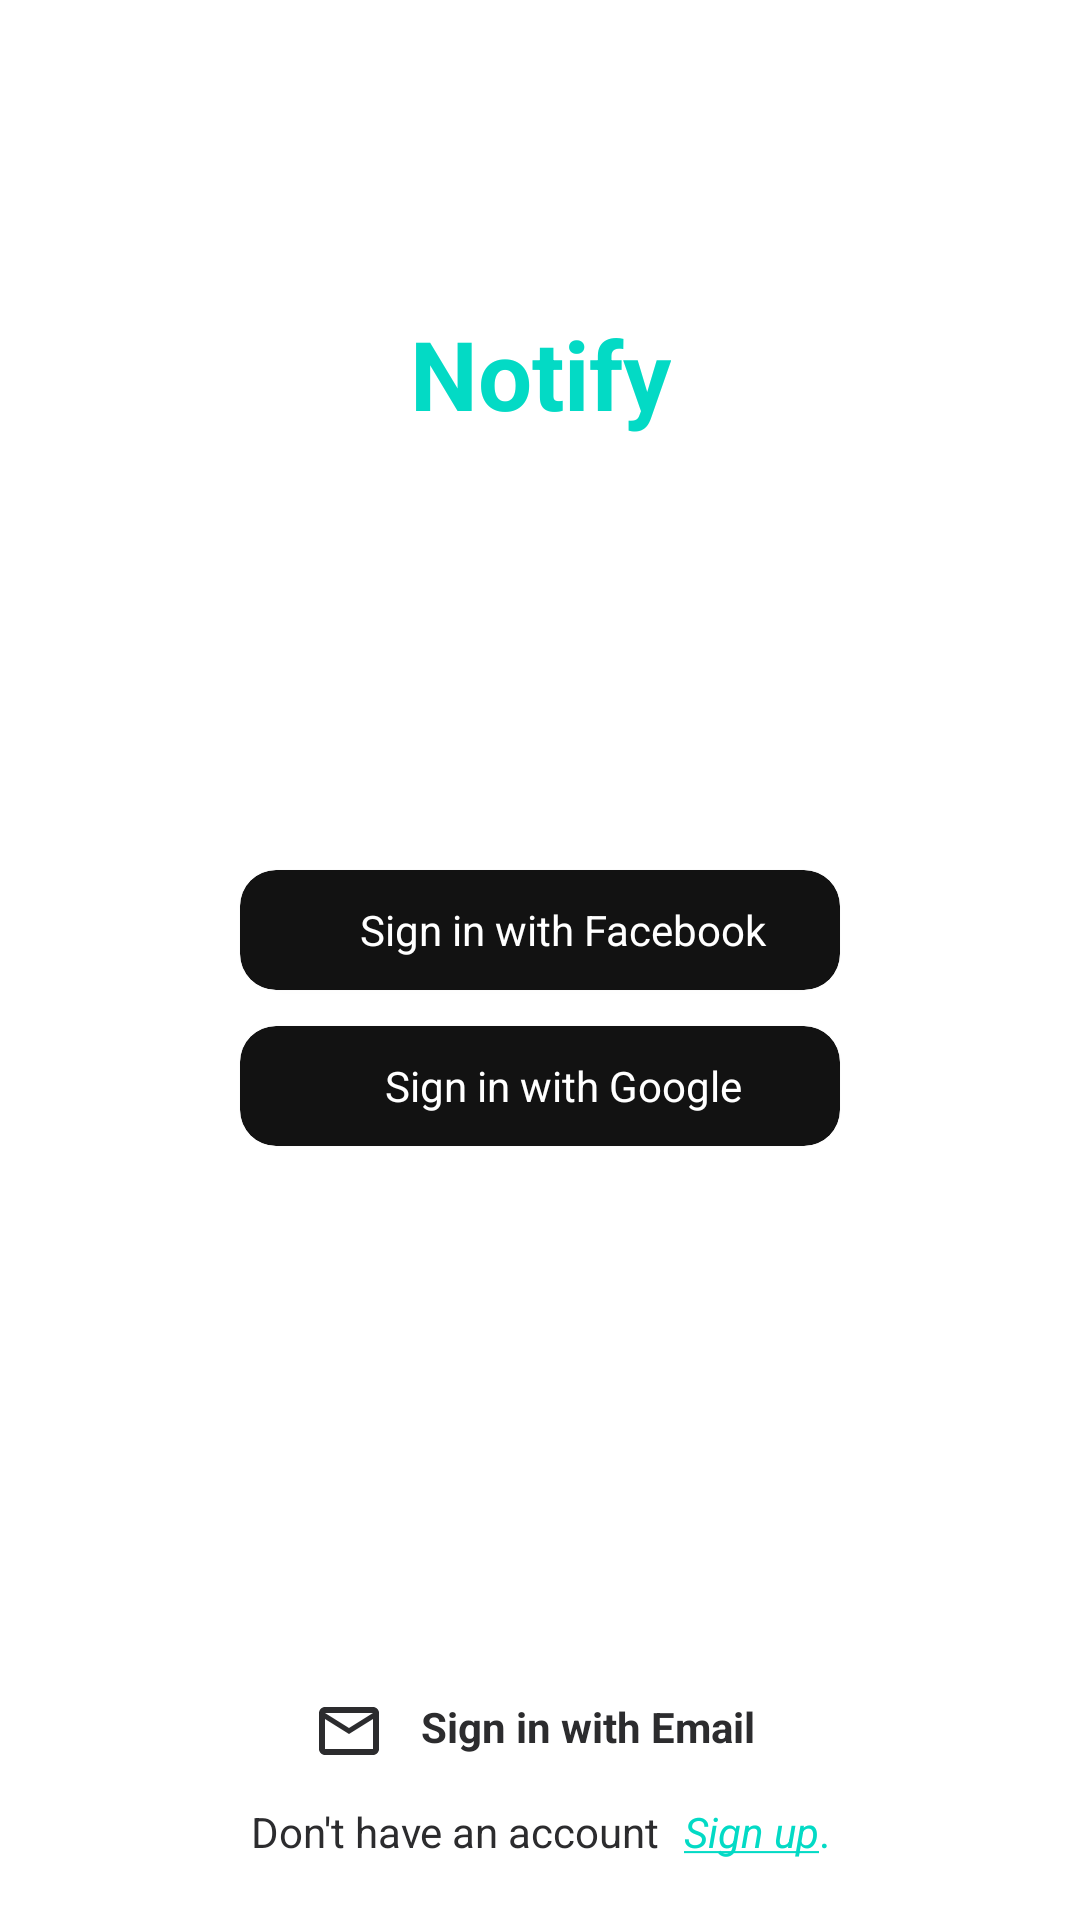

Locate icon controls on the screen. Image size 1080x1920, boxes as (x1, y1, x2, y2).
login mail: (319, 1707, 379, 1755)
